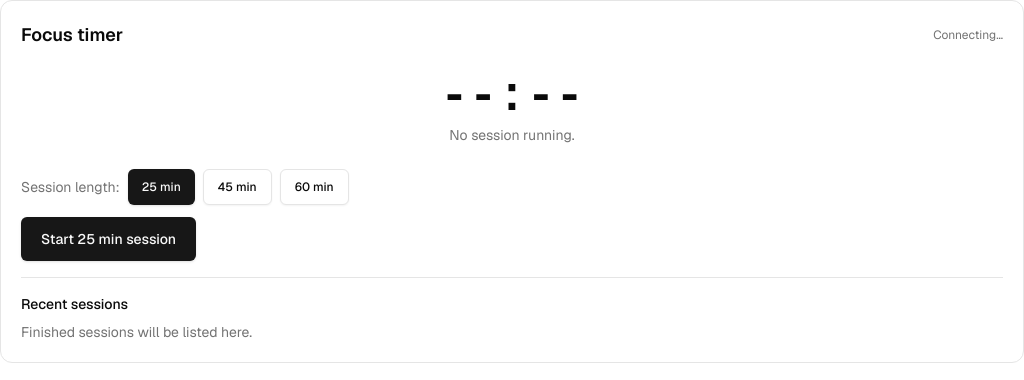
it: FocusTimer › switches the start label when another preset is chosen
Step 1. Click the button "45 min" → (237, 187), box 203,169 -> 272,205
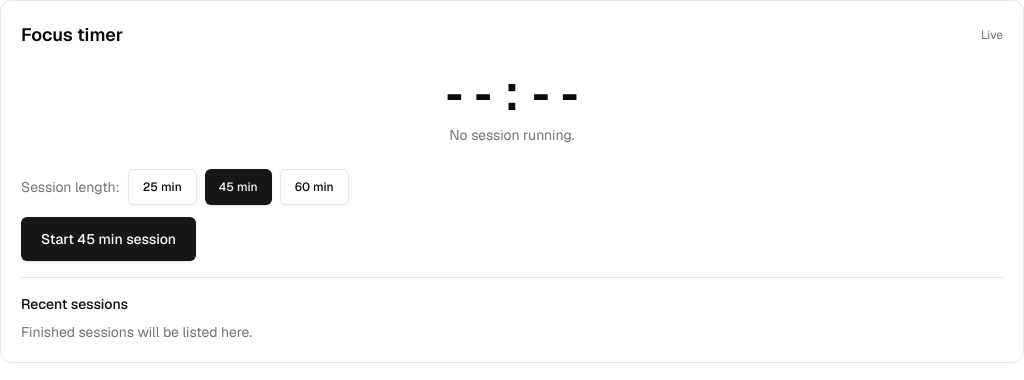
Now the button "Start 45 min session" is shown, box 21,217 -> 196,261
